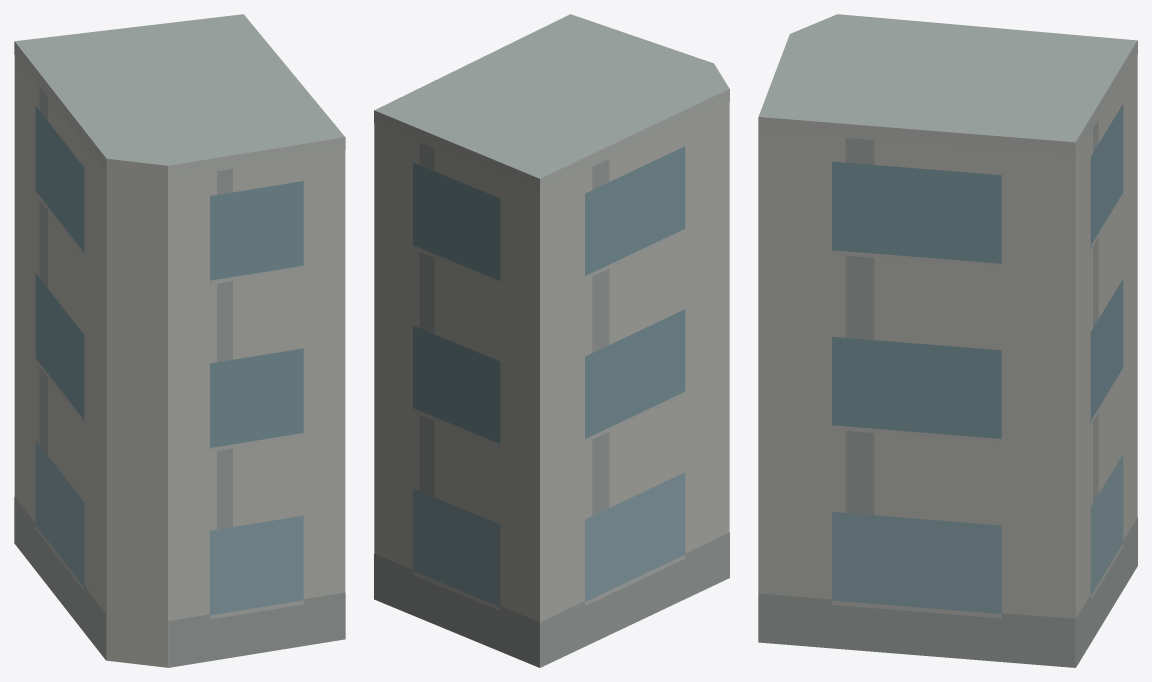
Rendered from survey-upis-32745708.glb.
3 views of the same model, side by side, from view 1: azimuth 30°, elevation 25°; view 2: azimuth 150°, elevation 25°; view 3: azimuth 270°, elevation 25° (orthographic). The views are drawn at different scales.
Visible parts, largest first — view 1: survey-upis-32745708.tmp; view 2: survey-upis-32745708.tmp; view 3: survey-upis-32745708.tmp.
Boxes of the visible parts, x1,y1,x2,y2 form: survey-upis-32745708.tmp: (14,14,345,667); survey-upis-32745708.tmp: (374,14,729,667); survey-upis-32745708.tmp: (758,14,1137,667).
Size of the model in its own units: 4.8 by 9.15 by 5.99.
